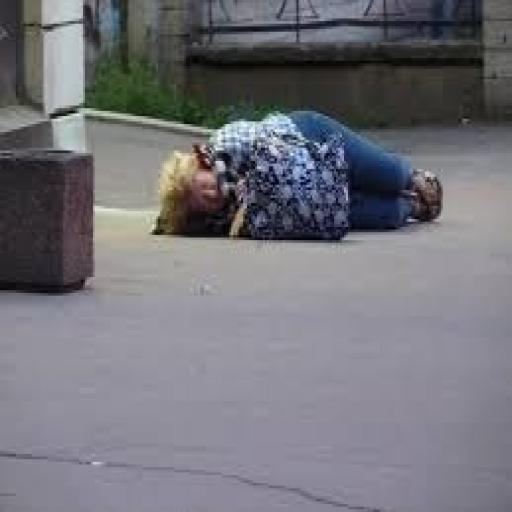sleeping: (150, 103, 445, 243)
